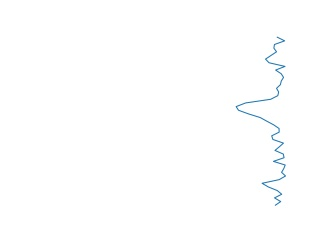interdistributaryEstuary: (233, 36, 291, 207)
